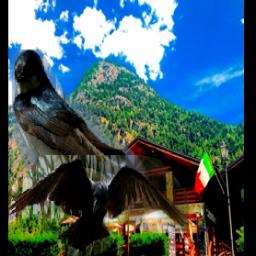Crow: (8, 156, 189, 256)
Swallow: (13, 49, 135, 219)
